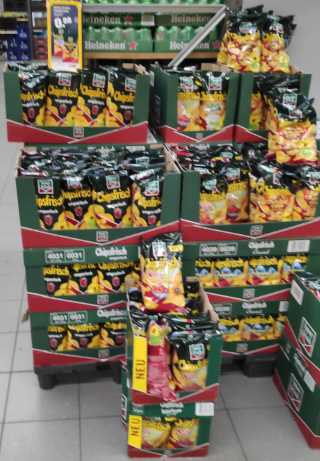chipsfrisch: (139, 230, 187, 311), (273, 93, 317, 165), (169, 331, 212, 390), (226, 12, 264, 73), (92, 176, 131, 227), (263, 19, 298, 70), (46, 73, 79, 125), (33, 174, 63, 231), (78, 71, 108, 127), (16, 70, 45, 126), (109, 71, 137, 127), (63, 177, 92, 230), (259, 177, 293, 221), (174, 73, 200, 130), (133, 175, 162, 226), (197, 174, 227, 223), (201, 71, 226, 129), (226, 173, 250, 223), (297, 170, 320, 218), (98, 261, 132, 293), (69, 263, 96, 294)
